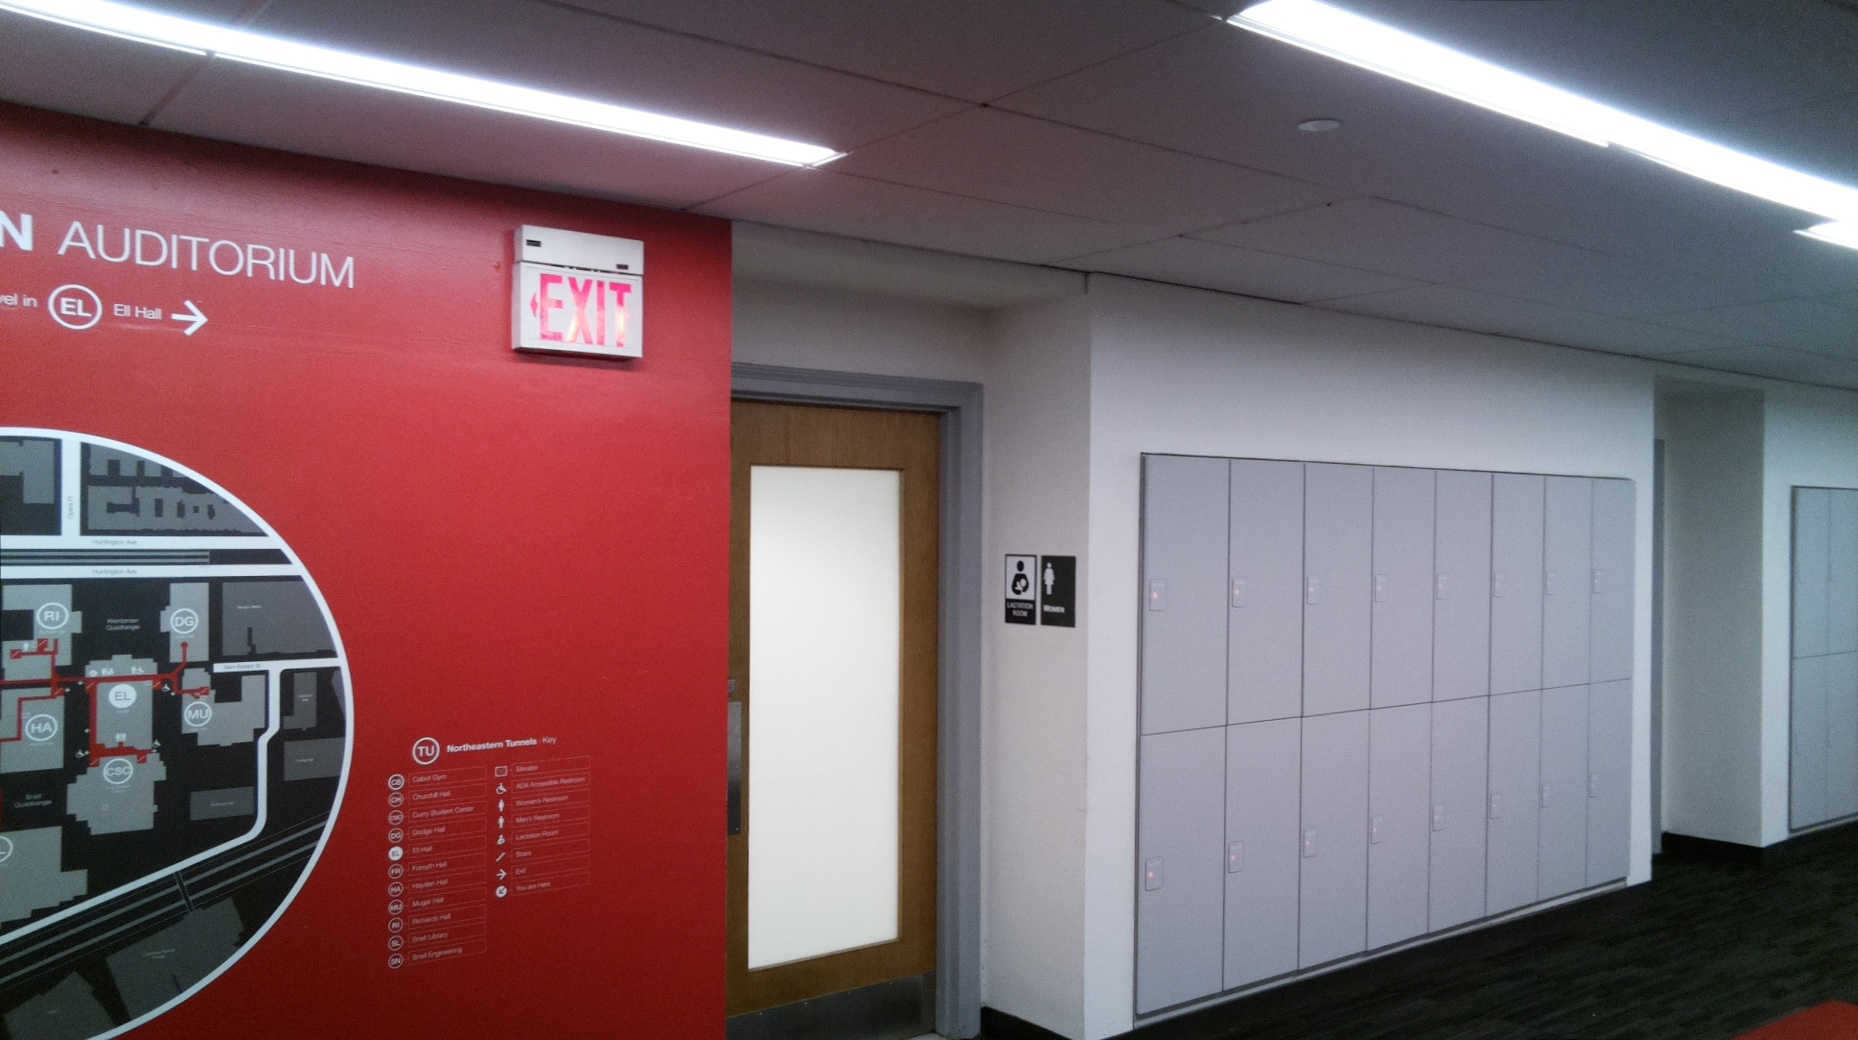bathroom sign: (1037, 553, 1078, 632)
exit sign: (502, 256, 648, 370)
